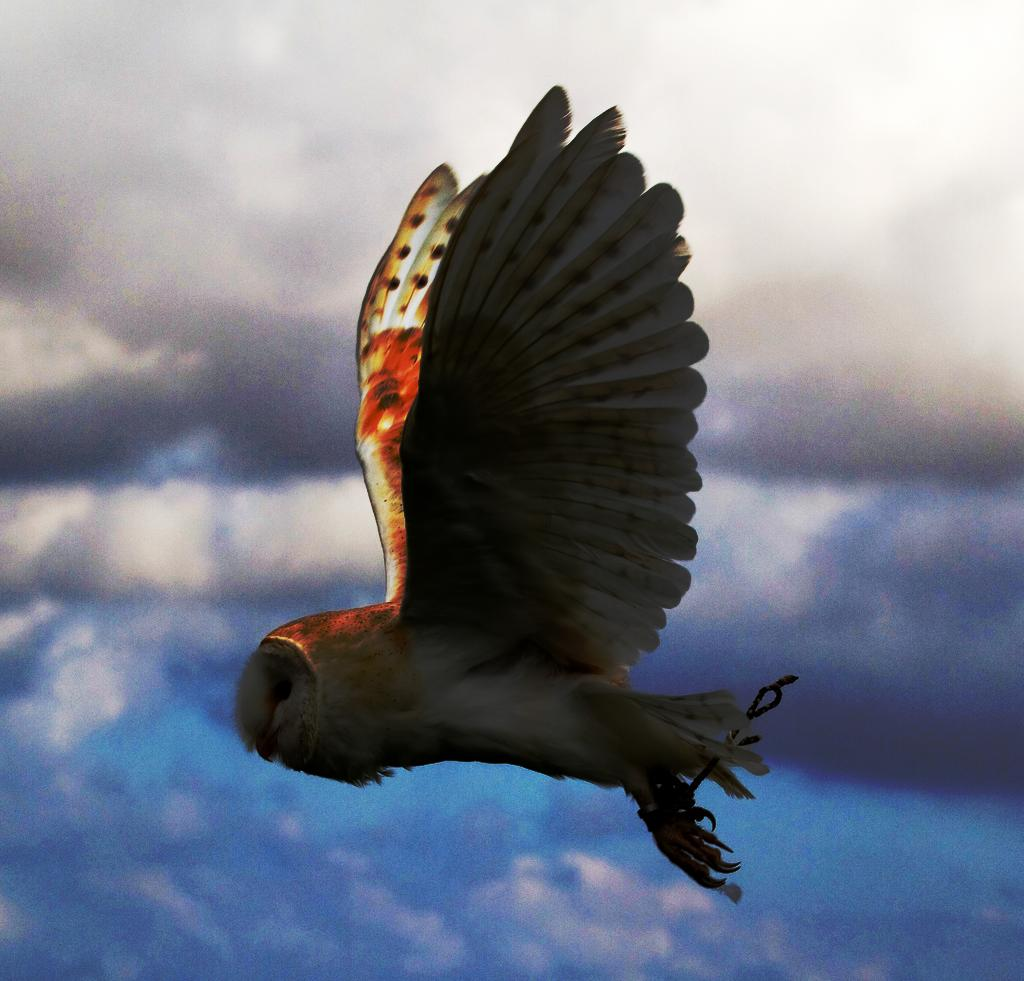Owl: (240, 85, 770, 883)
